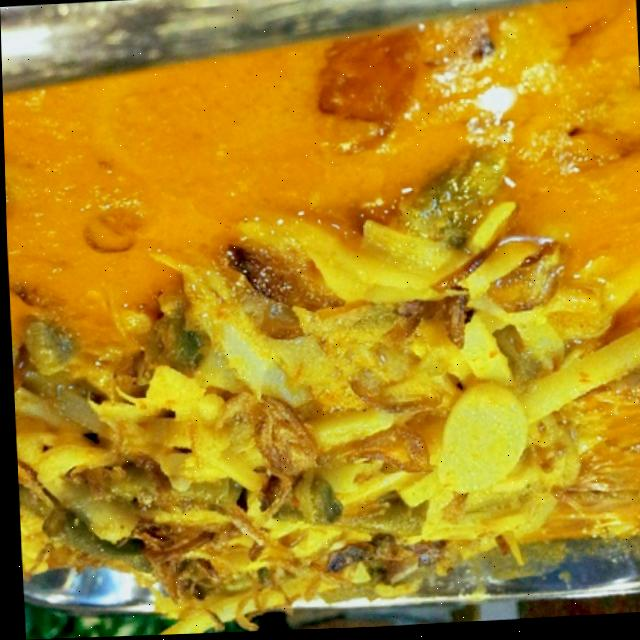熟制海鲜: (3, 10, 640, 640)
